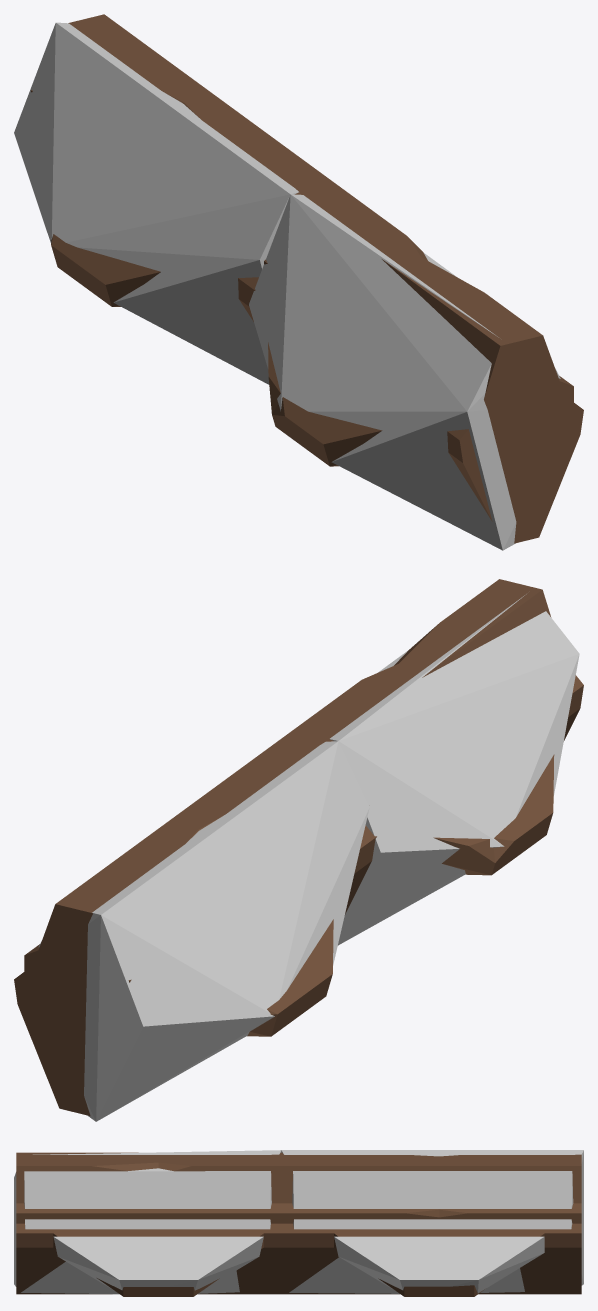
Rendered from SM_Bld_Roof_Cap_Straight_Wood_01.fbx.
3 views of the same model, one above another, from view 1: azimuth 30°, elevation 25°; view 2: azimuth 150°, elevation 25°; view 3: azimuth 270°, elevation 25° (orthographic). The views are drawn at different scales.
Visible parts, largest first — view 1: SM_Bld_Roof_Cap_Straight_Wood_01_ConvexHulls, SM_Bld_Roof_Cap_Straight_Wood_01; view 2: SM_Bld_Roof_Cap_Straight_Wood_01_ConvexHulls, SM_Bld_Roof_Cap_Straight_Wood_01; view 3: SM_Bld_Roof_Cap_Straight_Wood_01_ConvexHulls, SM_Bld_Roof_Cap_Straight_Wood_01.
Boxes of the visible parts, x1=… form: SM_Bld_Roof_Cap_Straight_Wood_01_ConvexHulls: x1=14, y1=22, x2=560, y2=550; SM_Bld_Roof_Cap_Straight_Wood_01: x1=31, y1=14, x2=583, y2=543; SM_Bld_Roof_Cap_Straight_Wood_01_ConvexHulls: x1=38, y1=594, x2=579, y2=1121; SM_Bld_Roof_Cap_Straight_Wood_01: x1=14, y1=579, x2=583, y2=1115; SM_Bld_Roof_Cap_Straight_Wood_01_ConvexHulls: x1=14, y1=1150, x2=583, y2=1294; SM_Bld_Roof_Cap_Straight_Wood_01: x1=16, y1=1152, x2=581, y2=1296.
Size of the model in its own units: 77.04 by 252 by 64.65.
2 materials, 1 textured.
